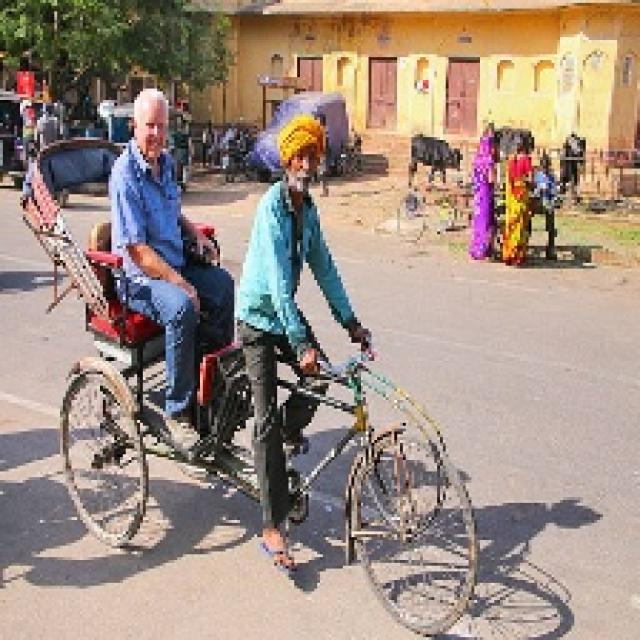rickshaw: (37, 117, 486, 600)
